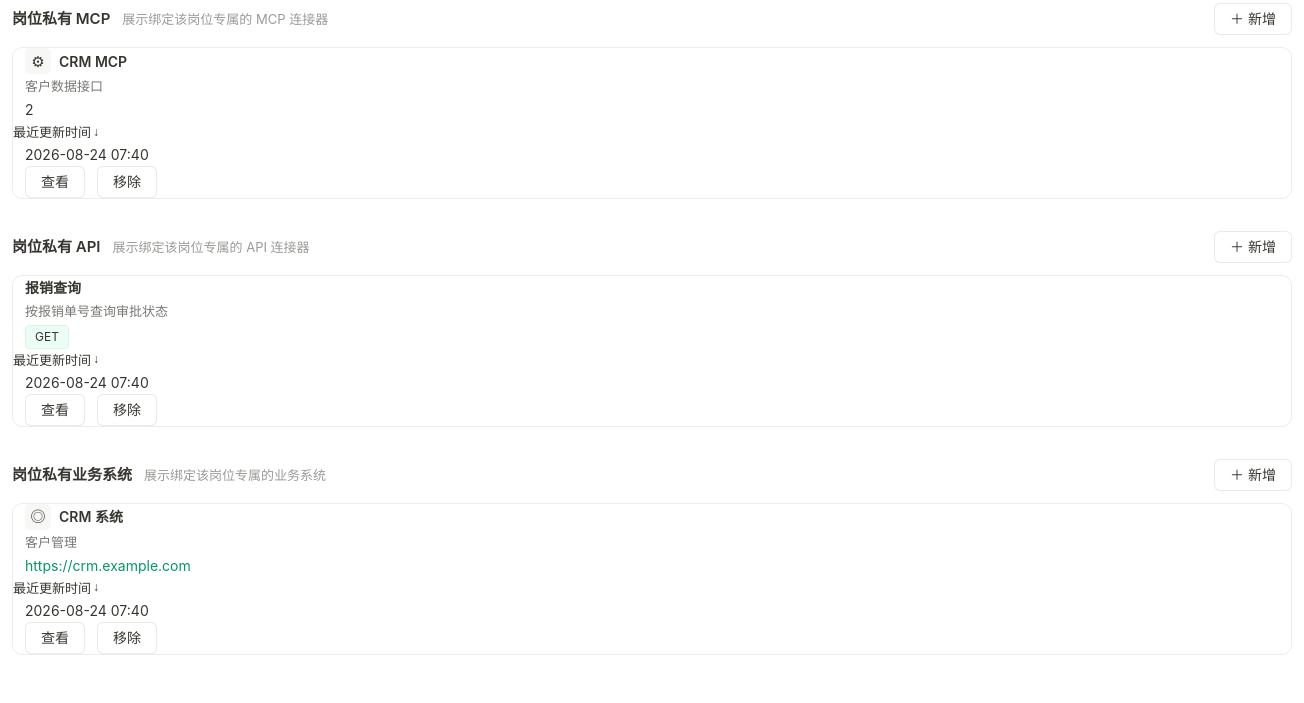
Scenario: 连接器页签 · 绑定弹窗候选范围（md 岗位 §8.1–§8.3；待办 yuepu#24③） › 岗位私有业务系统 的【＋ 新增】只向接口要「岗位私有 + 已发布」的候选；挂载时加载已绑定行不带该条件（软引用，停用后仍展示）
Step 1. Click the button "＋ 新增" in the row of "展示绑定该岗位专属的业务系统" → click(1253, 475), box x1=1214 y1=459 x2=1292 y2=491
(page scrolled)
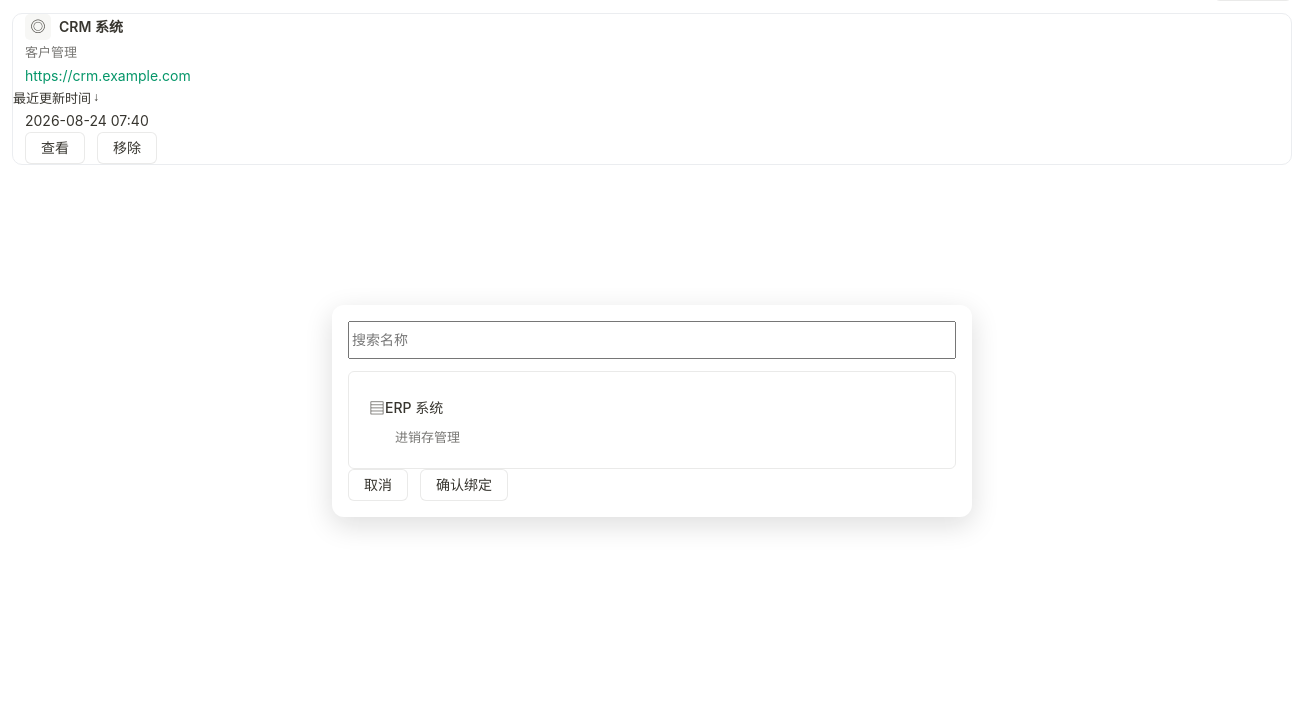
Expected: the element showing "进销存管理 取消 确认绑定" is shown, x1=332 y1=305 x2=972 y2=517
